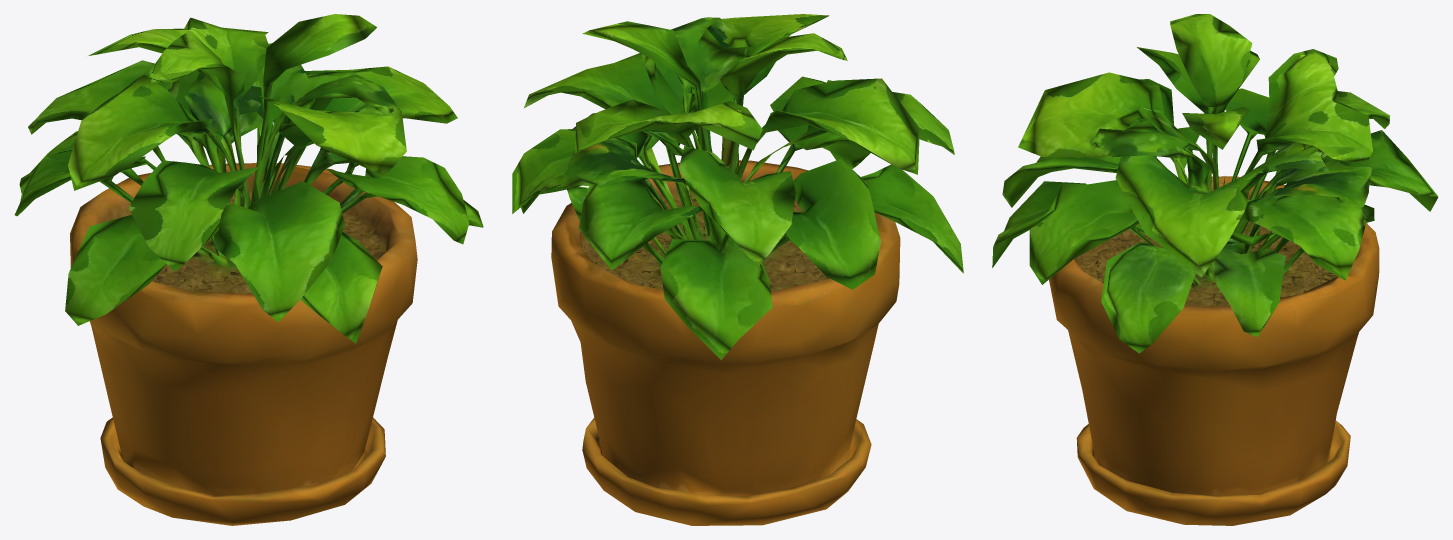
Rendered from bilik_plant.glb.
3 views of the same model, side by side, from view 1: azimuth 30°, elevation 25°; view 2: azimuth 150°, elevation 25°; view 3: azimuth 270°, elevation 25° (orthographic). The views are drawn at different scales.
Bounding box in the file's own units: 0.9456 × 0.9666 × 0.9207.
Materials: 1 (1 with a texture image).
